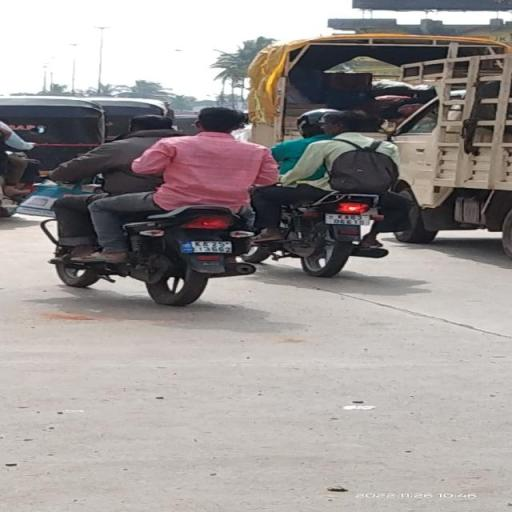bike: (41, 102, 285, 308)
numberplate: (182, 240, 233, 254)
withouthelmet: (200, 108, 244, 130), (132, 114, 171, 132)
